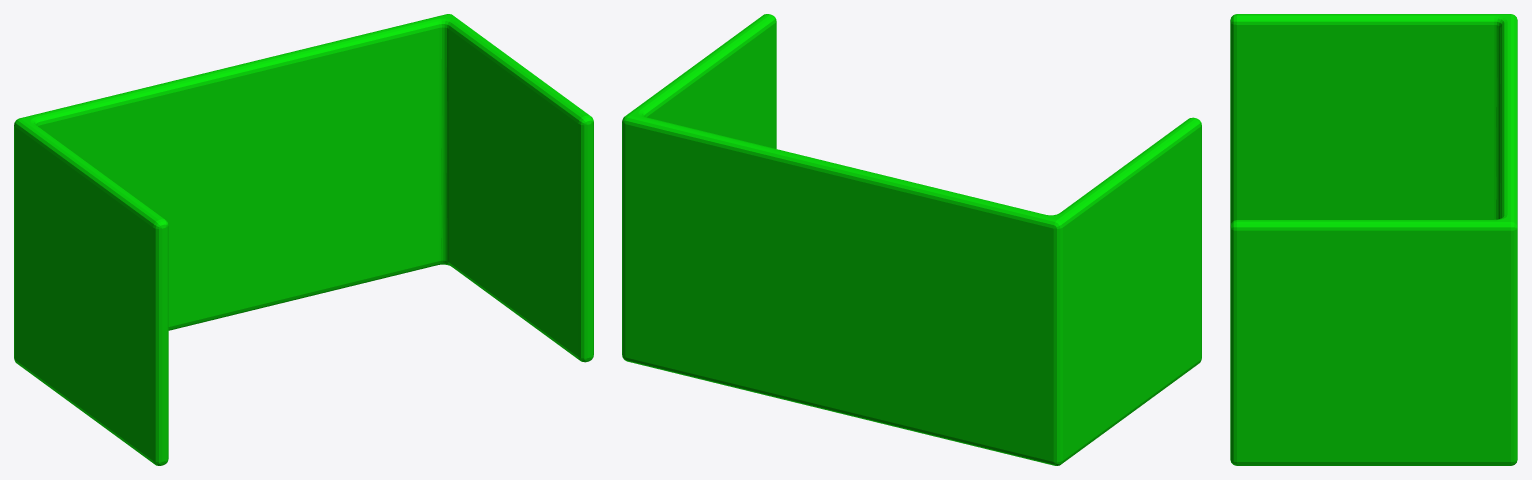
File: push_green.dae
3 views of the same model, side by side, from view 1: azimuth 30°, elevation 25°; view 2: azimuth 150°, elevation 25°; view 3: azimuth 270°, elevation 25° (orthographic).
Visible parts, largest first — view 1: push; view 2: push; view 3: push.
Part boxes in pixels (x1=…): push: x1=14, y1=14, x2=593, y2=465; push: x1=622, y1=14, x2=1201, y2=465; push: x1=1230, y1=14, x2=1517, y2=465.
Size of the model in its own units: 0.15 by 0.0856 by 0.08.
